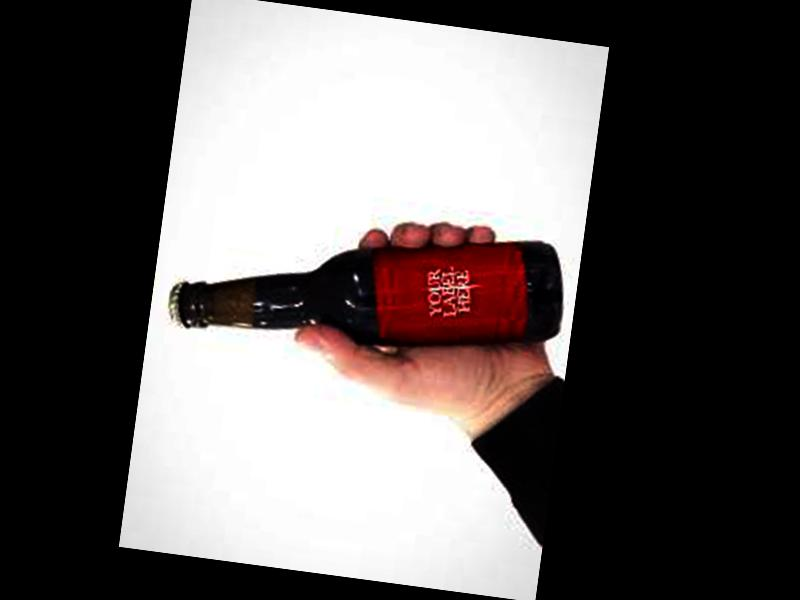Beer: (163, 192, 570, 379)
